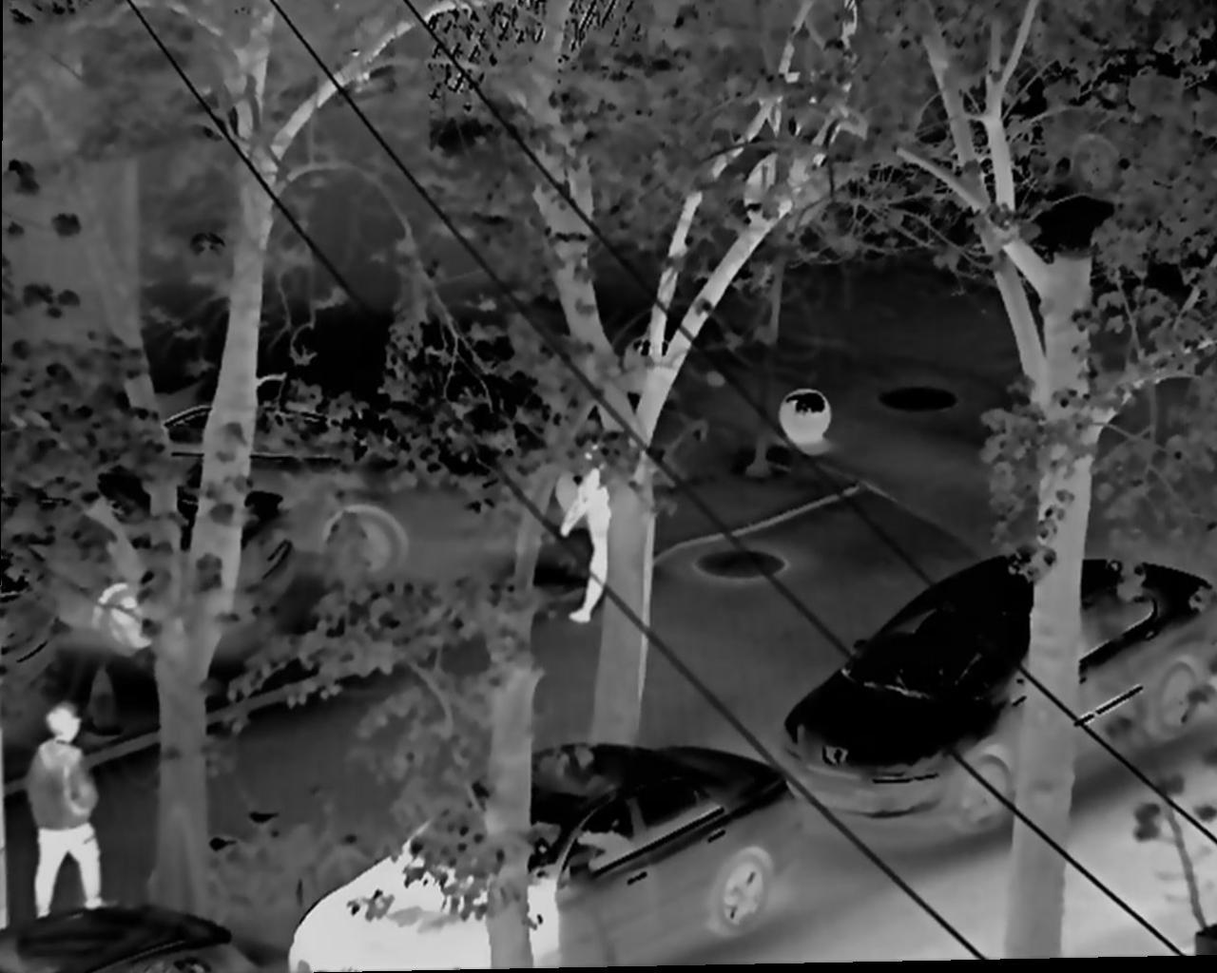person: (26, 704, 109, 920), (556, 439, 634, 620)
